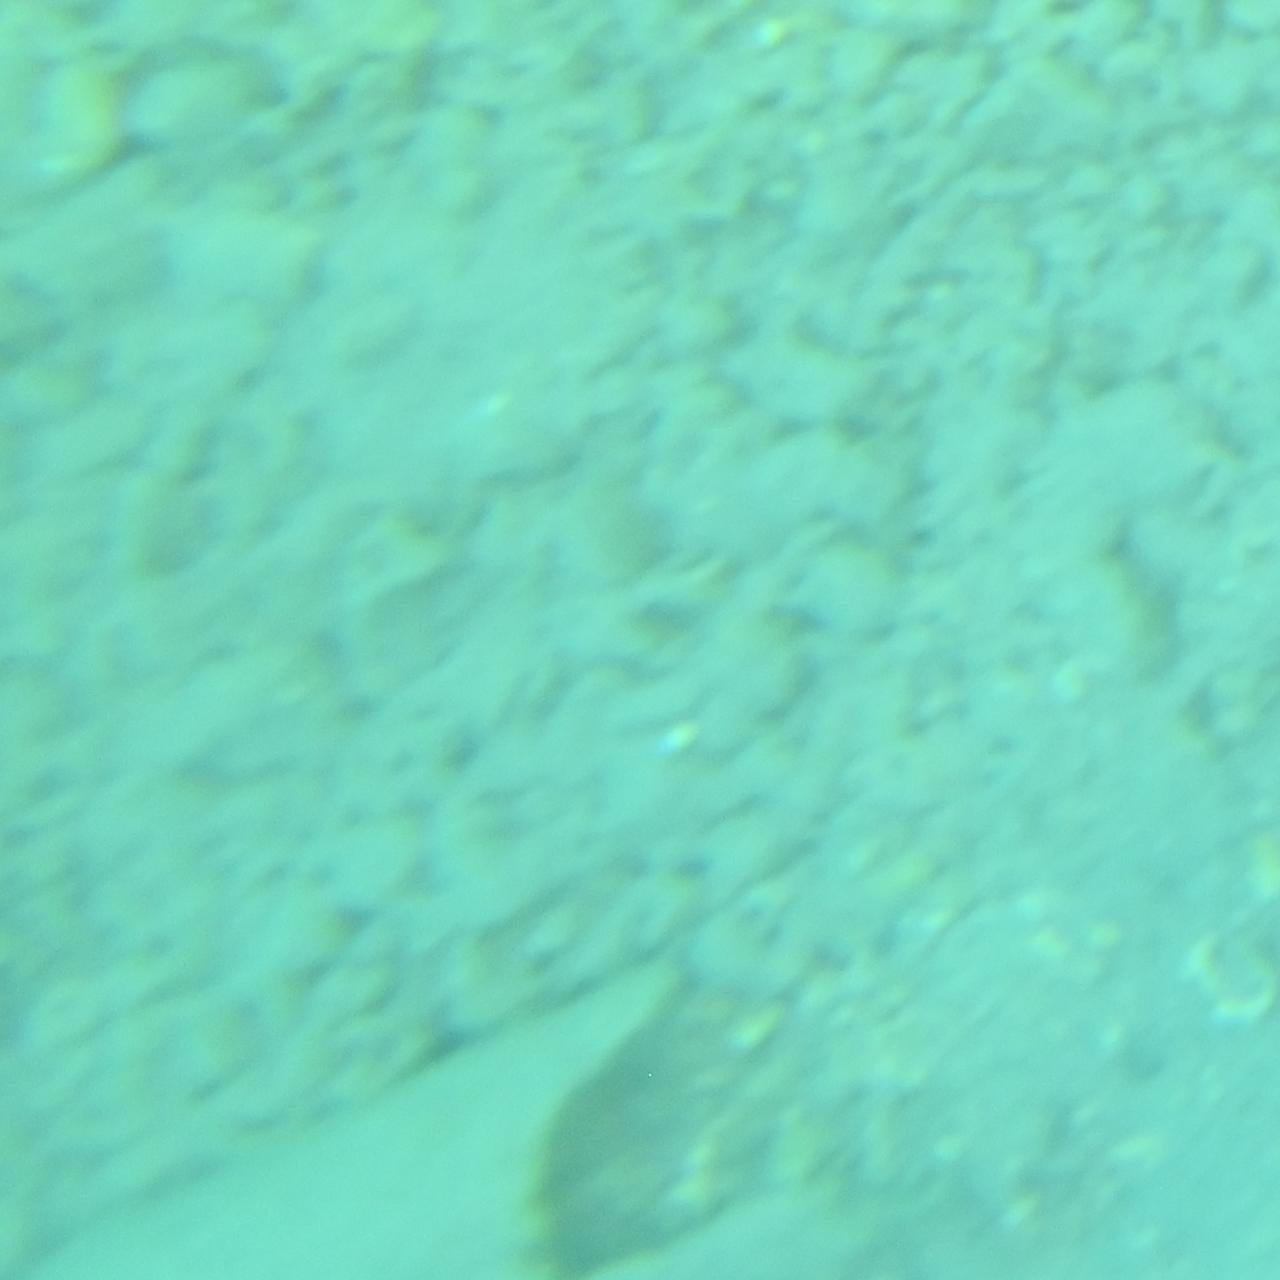Rifiuto: (0, 946, 812, 1280)
